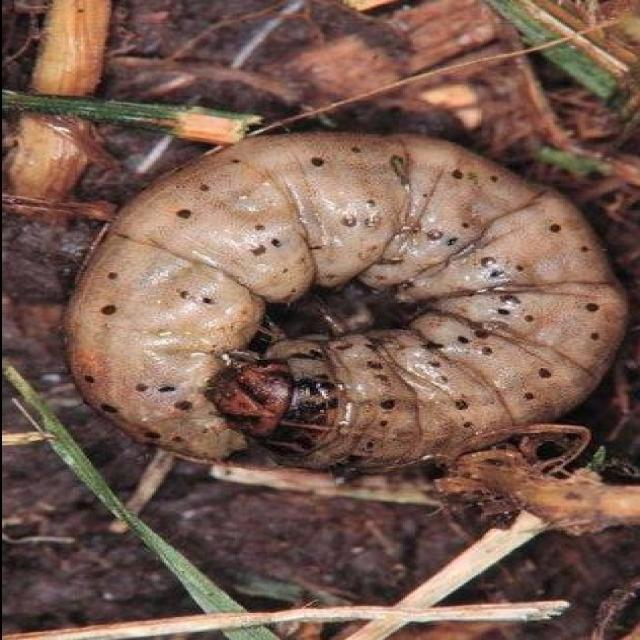black cutworm: (67, 111, 628, 514)
